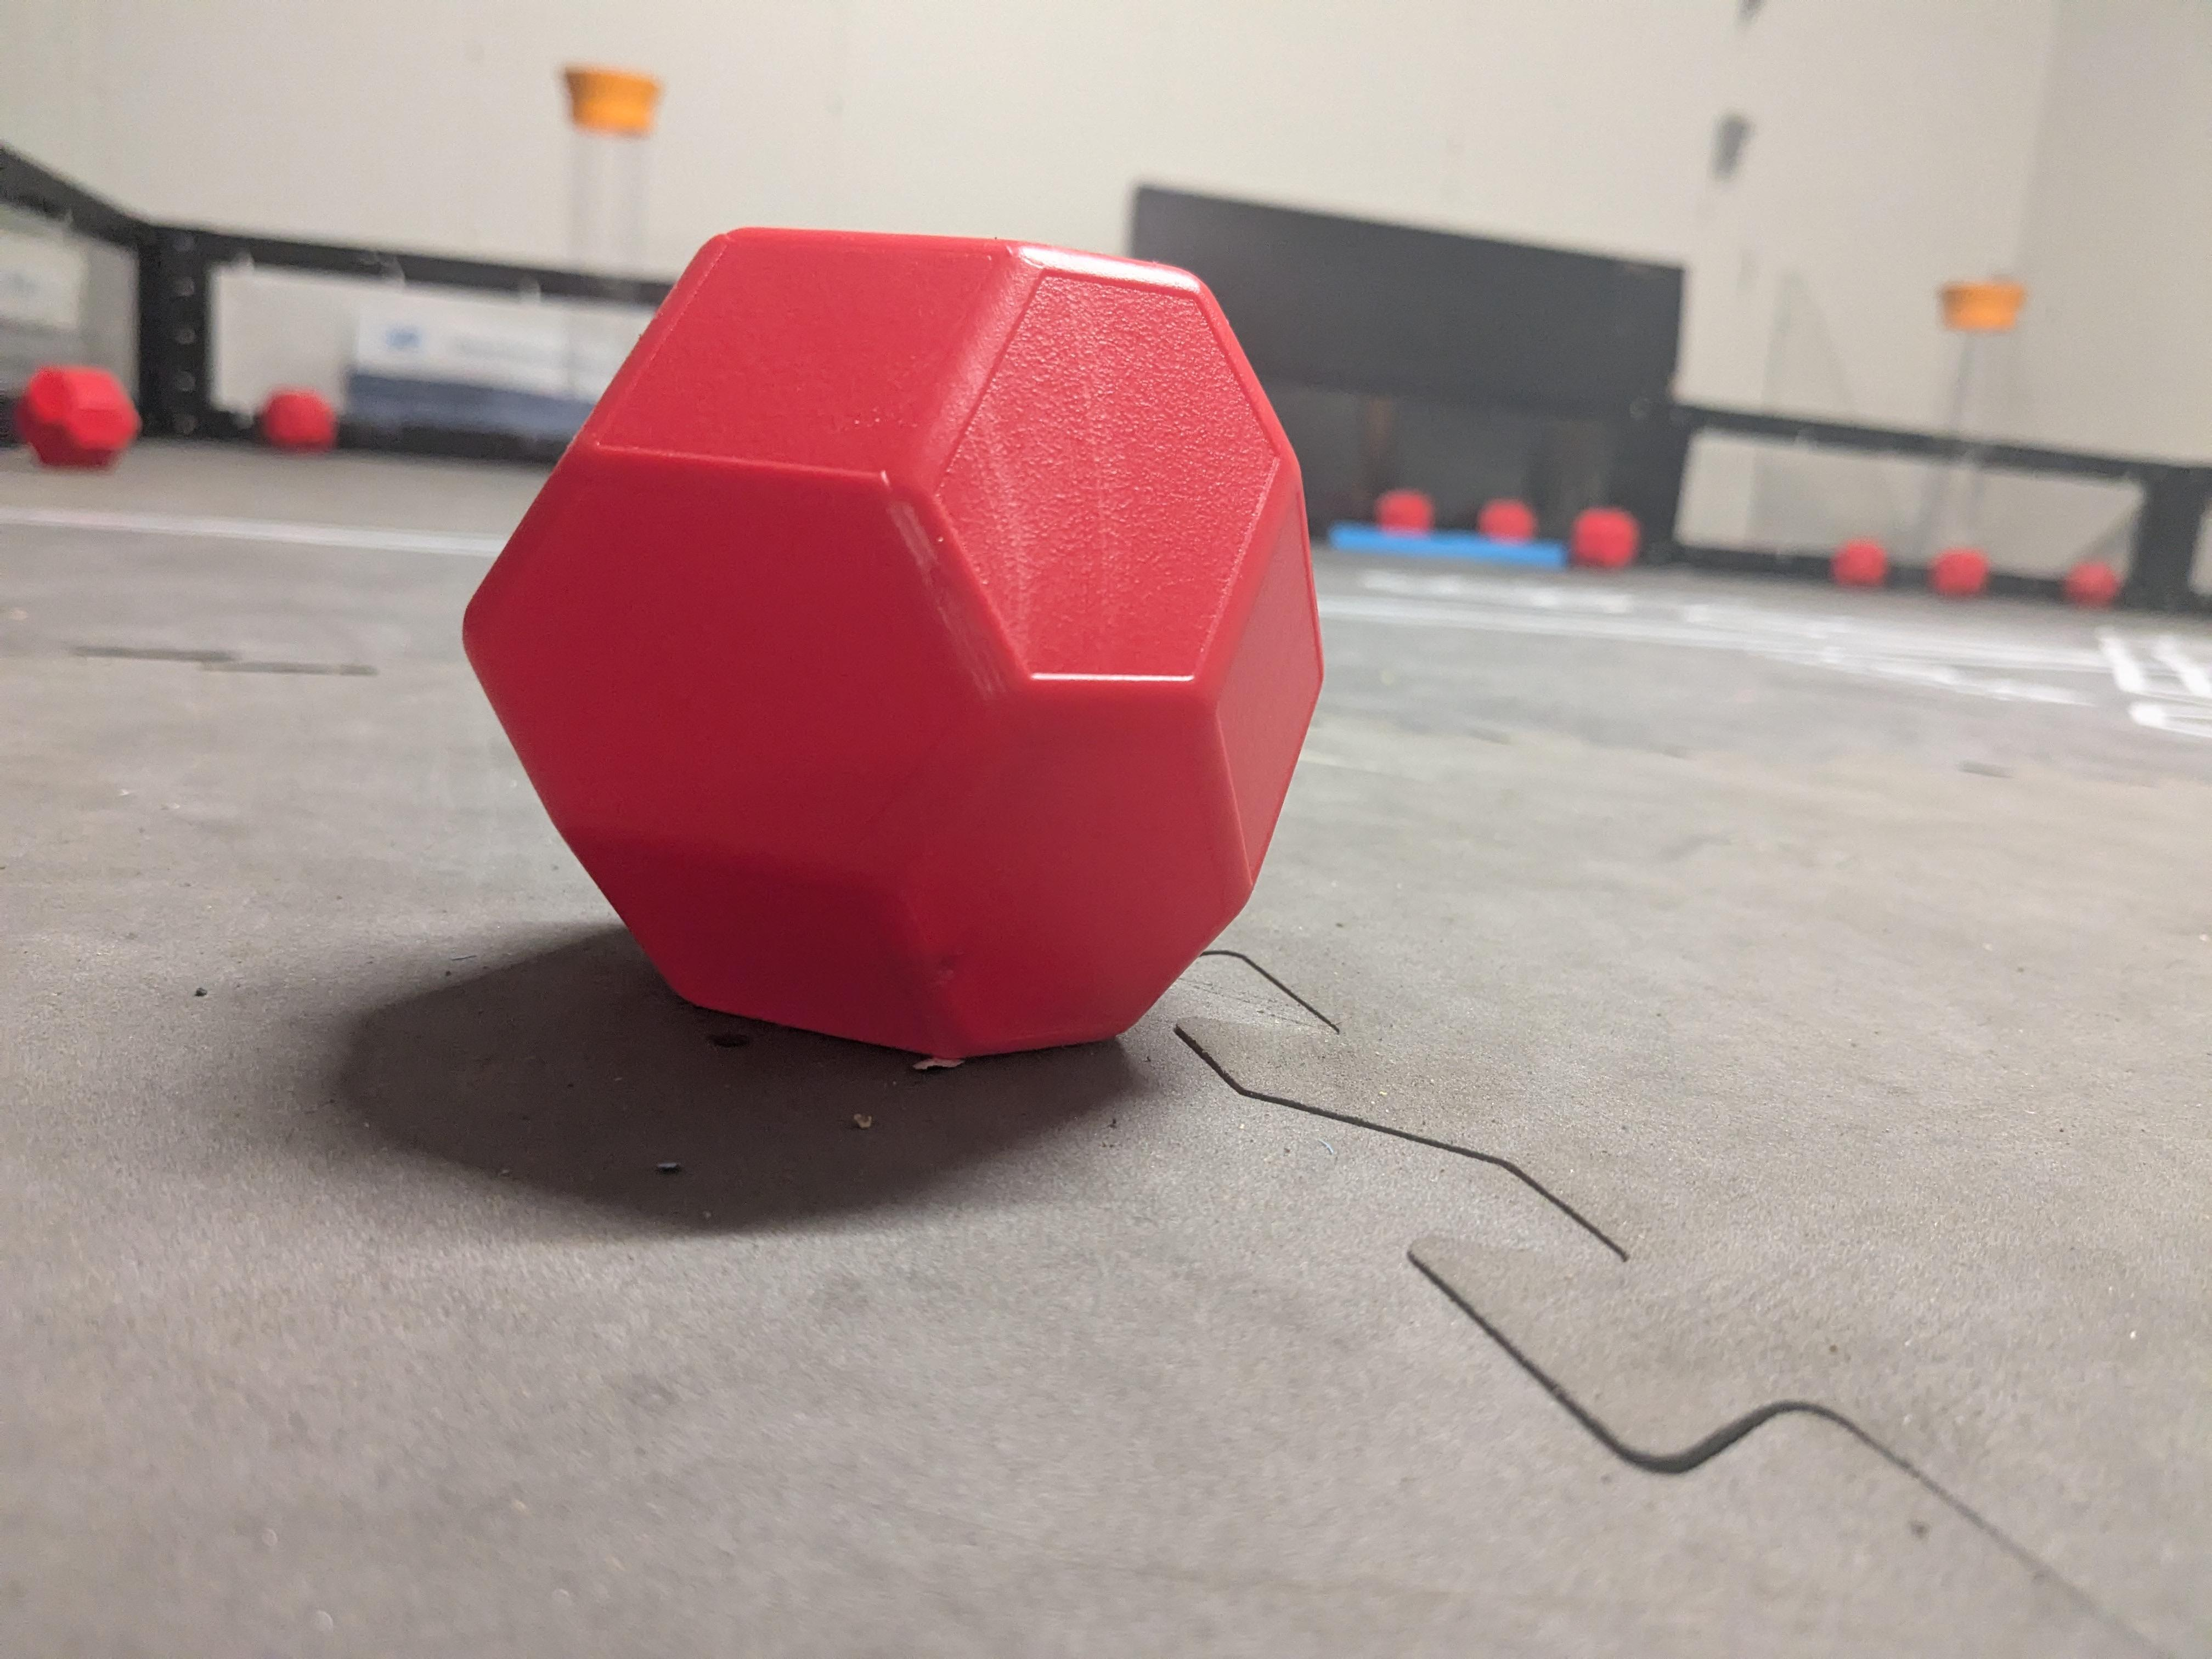Vex-Pieces-RED: (463, 228, 1322, 1058)
